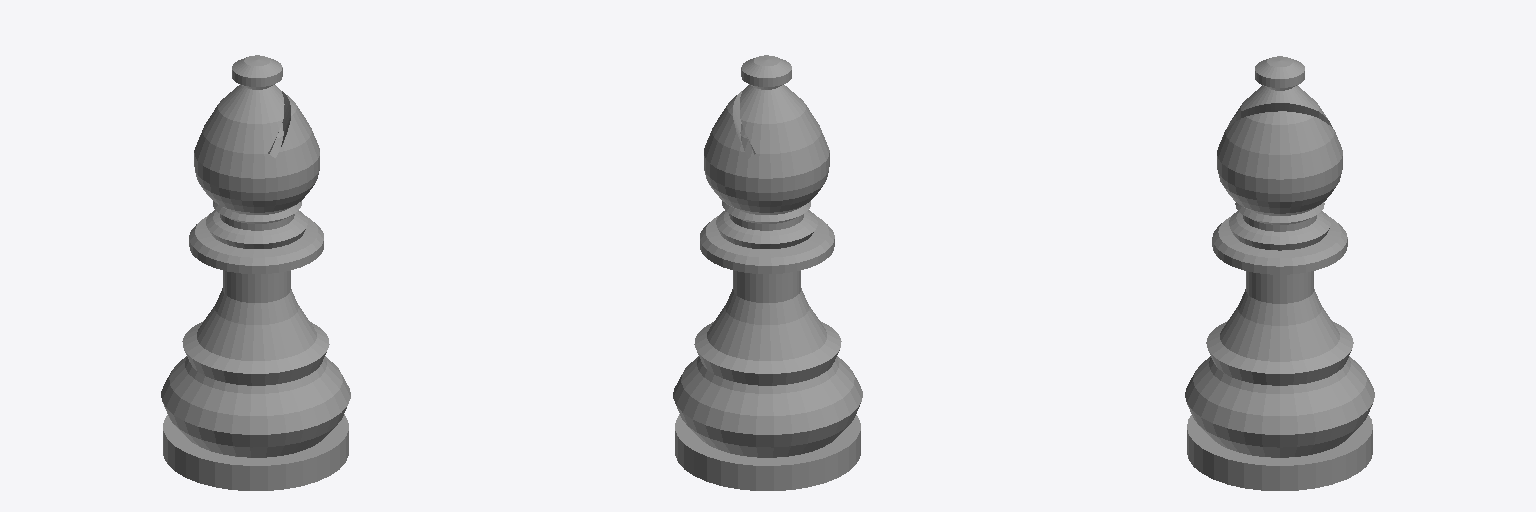
The model's file is bishop.obj.
3 views of the same model, side by side, from view 1: azimuth 30°, elevation 25°; view 2: azimuth 150°, elevation 25°; view 3: azimuth 270°, elevation 25° (orthographic).
Parts seen in each view (by area): view 1: Circle_Circle.001; view 2: Circle_Circle.001; view 3: Circle_Circle.001.
Boxes of the visible parts, <box> form: Circle_Circle.001: <box>161,55,350,490</box>; Circle_Circle.001: <box>673,55,862,490</box>; Circle_Circle.001: <box>1185,56,1374,490</box>.
Size of the model in its own units: 1.36 by 3.09 by 1.36.